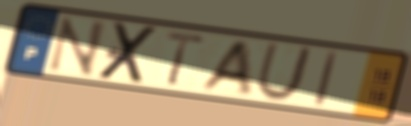A: (194, 40, 254, 96)
I: (311, 49, 342, 110)
N: (44, 15, 109, 79)
T: (162, 29, 210, 87)
U: (253, 41, 316, 103)
X: (94, 21, 163, 86)
